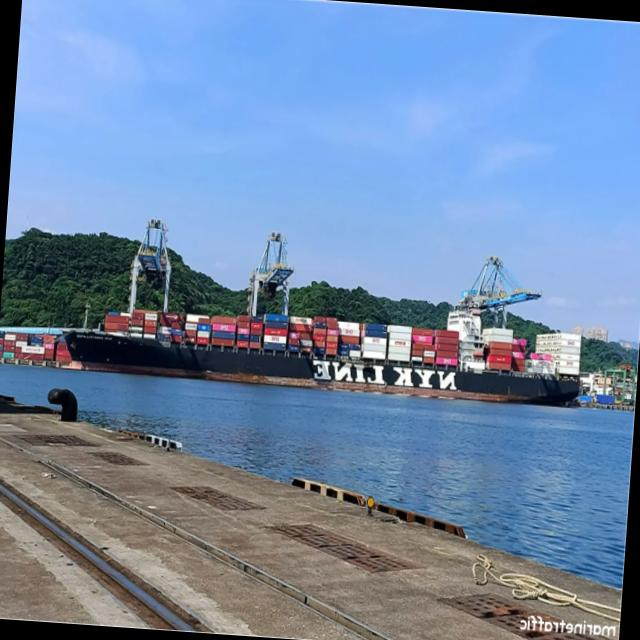Cargo: (65, 305, 581, 403)
